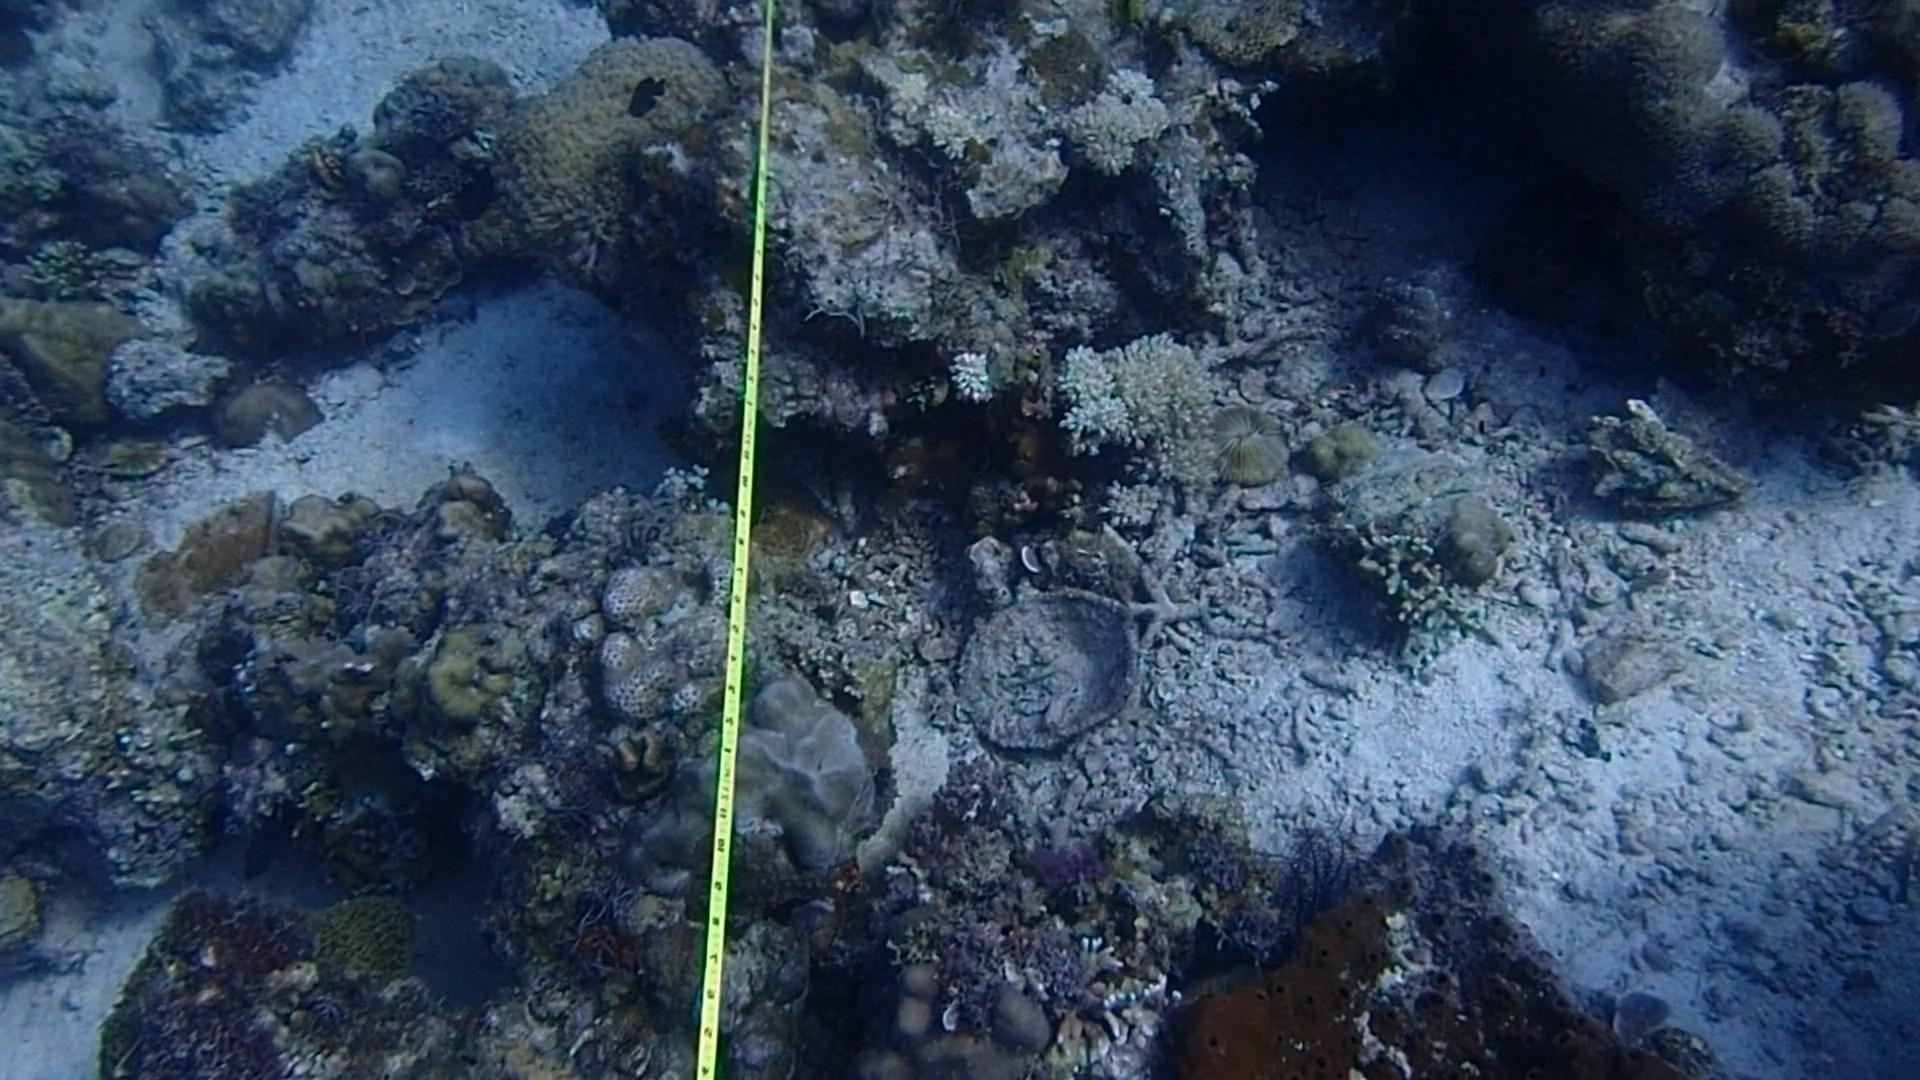Dark Fish: (237, 779, 318, 887), (443, 167, 512, 243), (625, 69, 676, 124)
